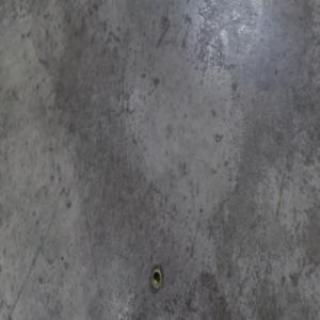Nuttrack_idkeyframe: (149, 264, 162, 291)
